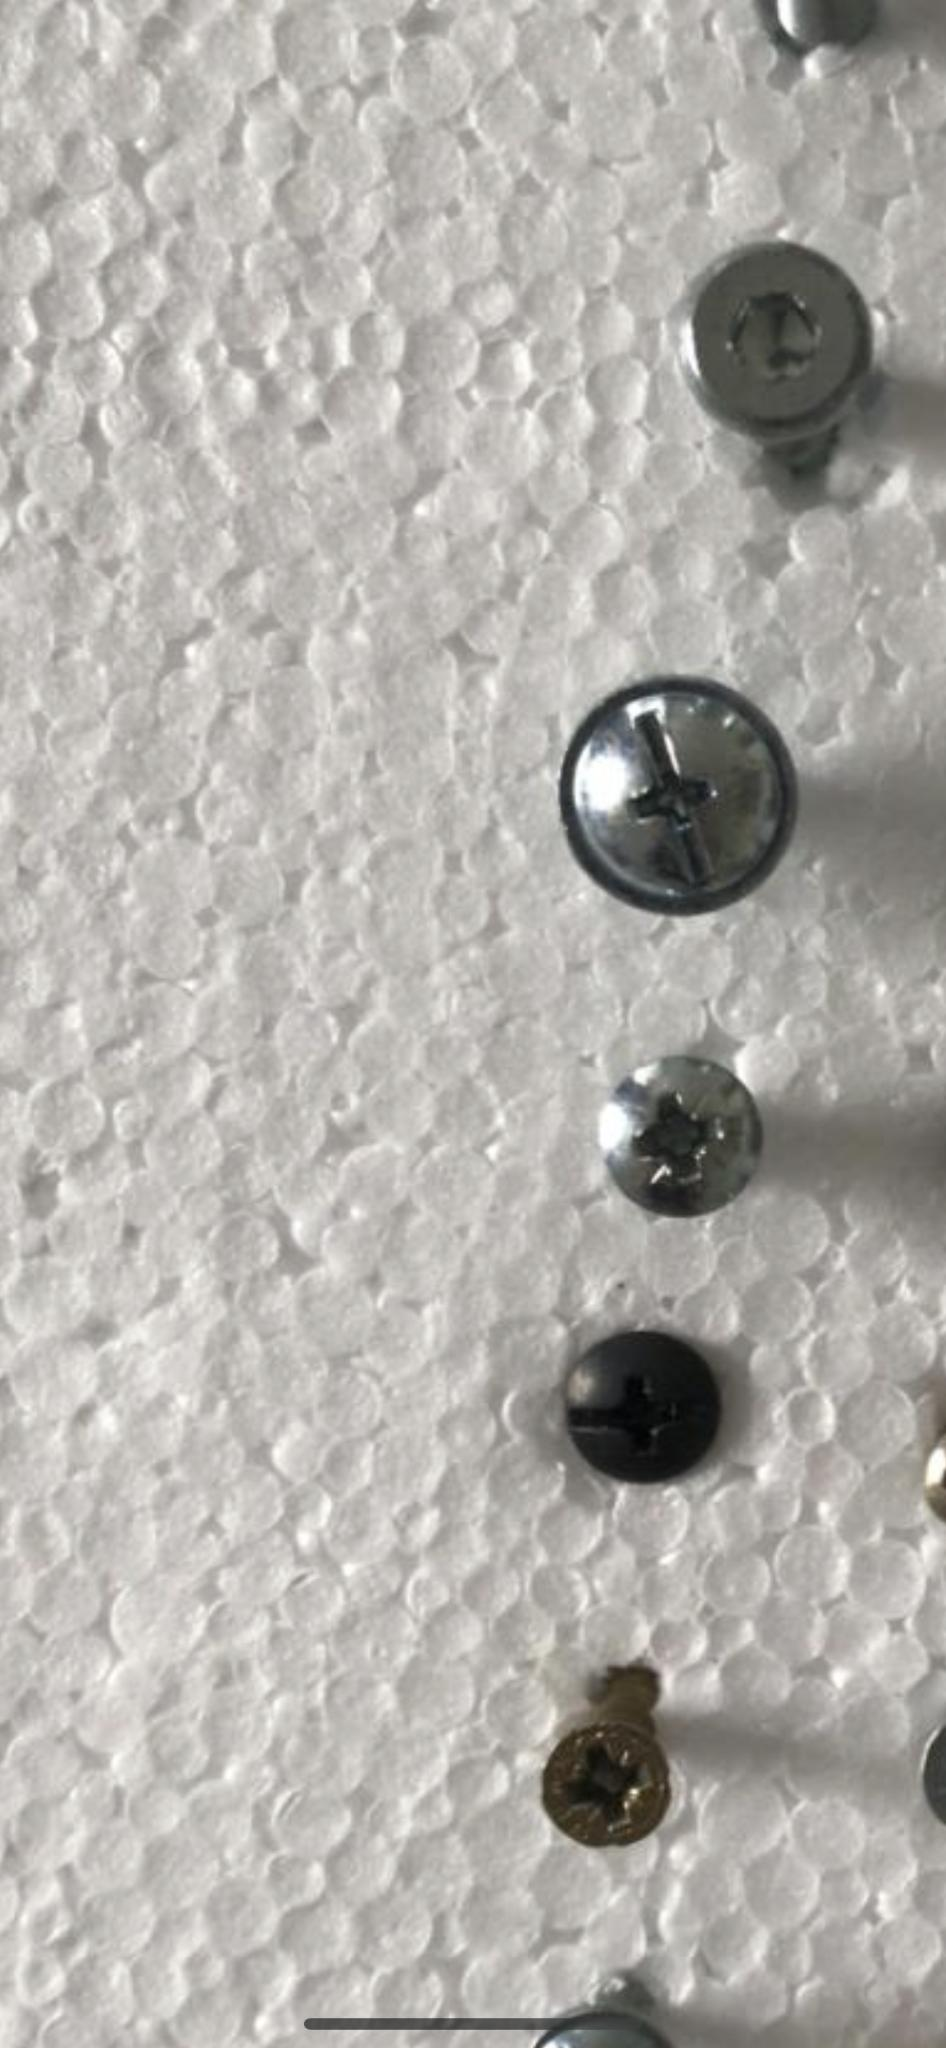H: (677, 242, 877, 444)
PH: (554, 673, 806, 914), (598, 1055, 764, 1217), (562, 1330, 724, 1488), (533, 1718, 677, 1849)
